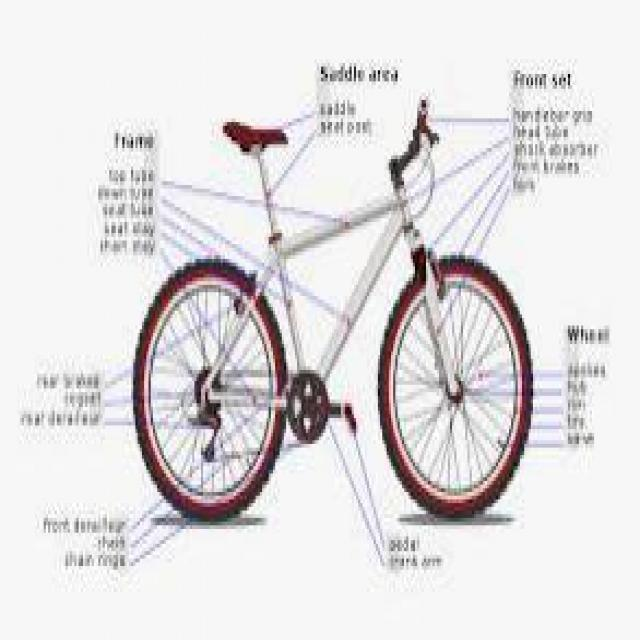bicycle: (143, 97, 536, 552)
